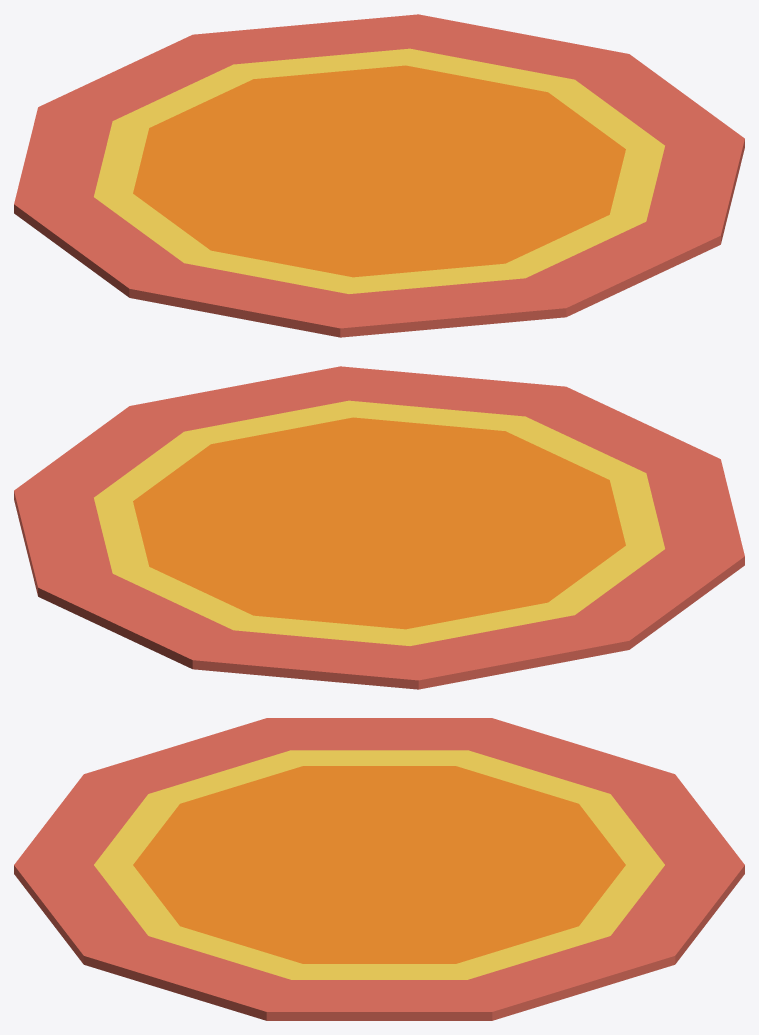
The model's file is Carpet2.glb.
The picture shows the model from 3 angles, top to bottom: view 1: azimuth 30°, elevation 25°; view 2: azimuth 150°, elevation 25°; view 3: azimuth 270°, elevation 25°; orthographic projection. The views are drawn at different scales.
Visible parts, largest first — view 1: Carpet2; view 2: Carpet2; view 3: Carpet2.
Boxes of the visible parts, x1=… form: Carpet2: x1=14, y1=14, x2=744, y2=337; Carpet2: x1=14, y1=366, x2=744, y2=689; Carpet2: x1=14, y1=718, x2=744, y2=1020.
Bounding box in the file's own units: 1.75 × 0.0248 × 1.84.
Materials: 1 (1 with a texture image).
